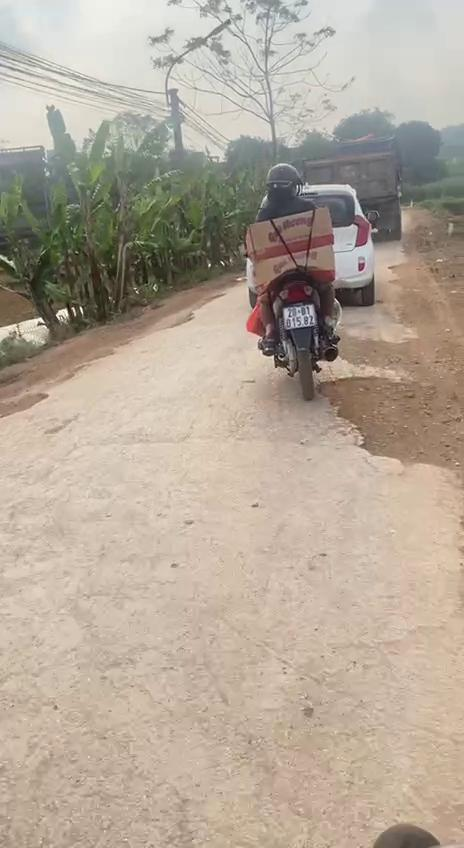pothole: (314, 370, 458, 478), (332, 331, 418, 378), (43, 347, 118, 391), (0, 390, 60, 424), (133, 312, 194, 340)
